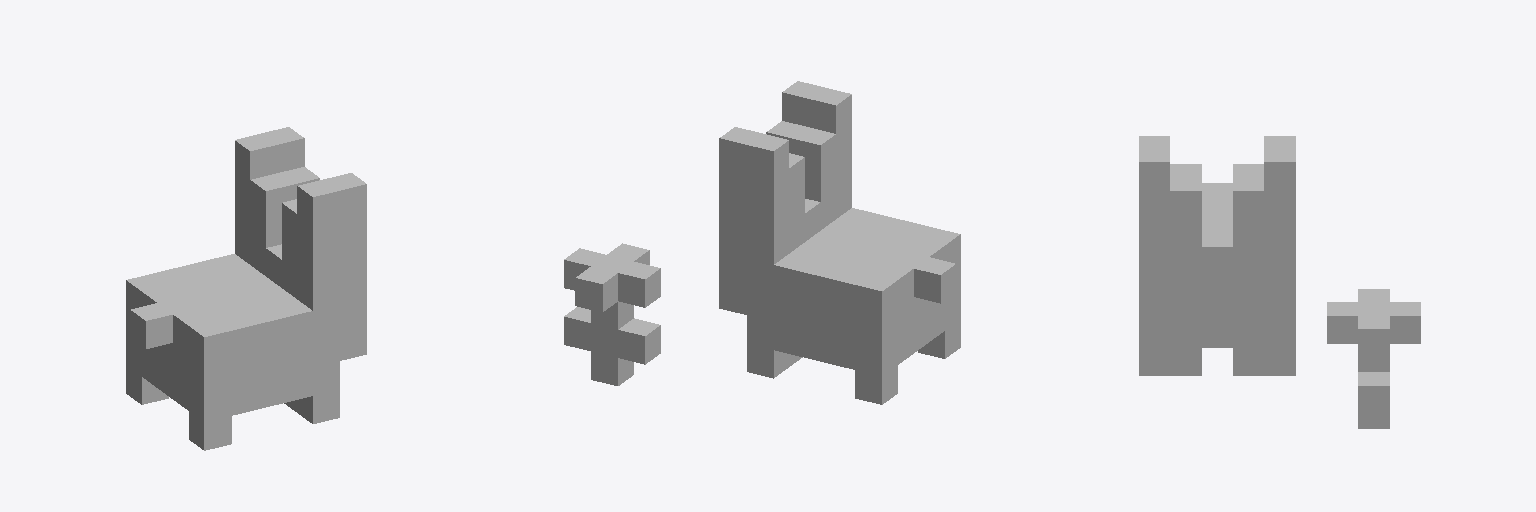
The model's file is Rabbit.obj.
3 renders of one model, left to right at view 1: azimuth 30°, elevation 25°; view 2: azimuth 150°, elevation 25°; view 3: azimuth 270°, elevation 25°, orthographic.
Visible parts, largest first — view 1: object 1; view 2: object 1; view 3: object 1.
Boxes of the visible parts, <box> form: object 1: <box>126,127,366,450</box>; object 1: <box>564,81,960,404</box>; object 1: <box>1139,136,1420,428</box>.
Size of the model in its own units: 1.1 by 0.8 by 0.9.